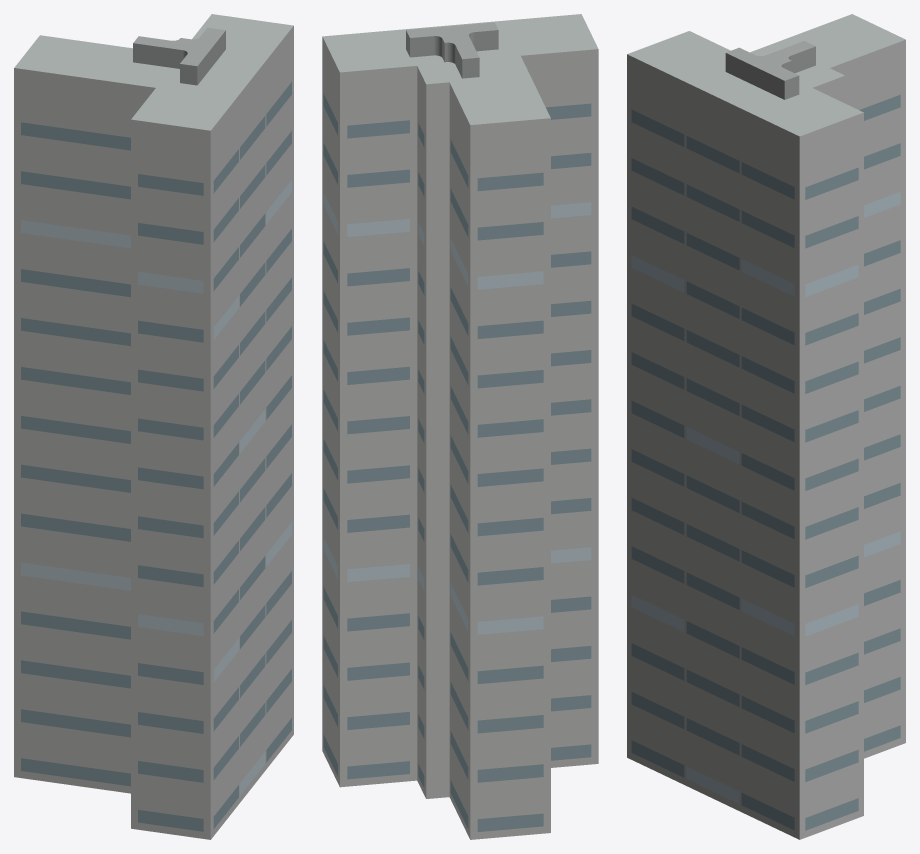
The model's file is fallback-gaepo-xi-presidence-428.glb.
The picture shows the model from 3 angles, left to right: view 1: azimuth 30°, elevation 25°; view 2: azimuth 150°, elevation 25°; view 3: azimuth 270°, elevation 25°; orthographic projection.
Visible parts, largest first — view 1: fallback-gaepo-xi-presidence-428; view 2: fallback-gaepo-xi-presidence-428; view 3: fallback-gaepo-xi-presidence-428.
Part boxes in pixels (bbox=[...]): fallback-gaepo-xi-presidence-428: bbox=[14, 14, 293, 839]; fallback-gaepo-xi-presidence-428: bbox=[322, 14, 598, 839]; fallback-gaepo-xi-presidence-428: bbox=[627, 14, 905, 839].
Bounding box in the file's own units: 33.04 × 90.85 × 31.79.
